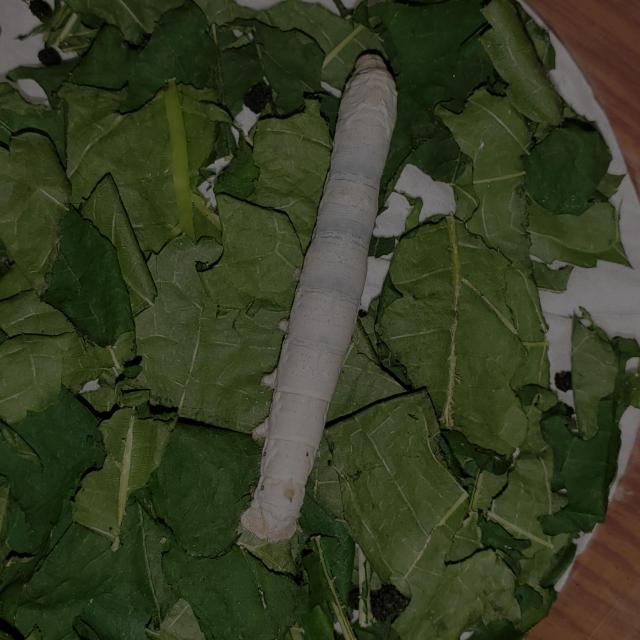Healthy: (233, 40, 406, 557)
